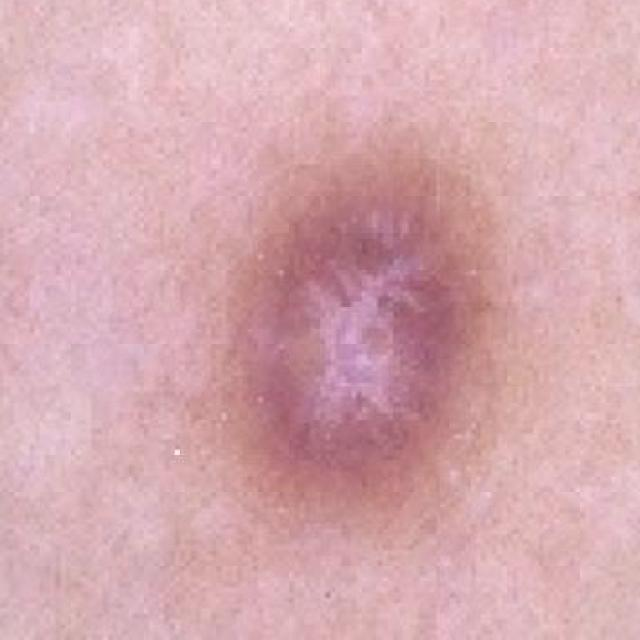DF: (200, 168, 496, 520)
